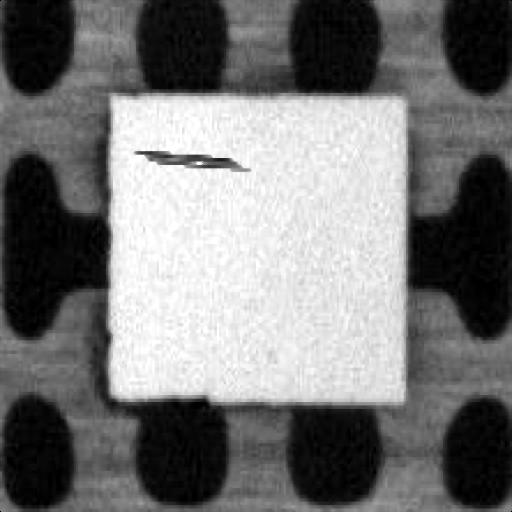DIE_INK: (175, 97, 378, 113)
